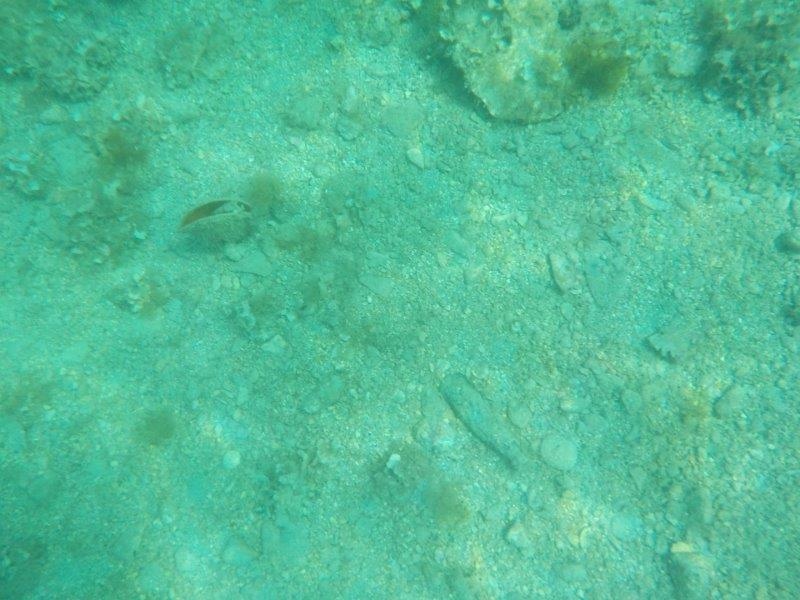bottle: (433, 368, 528, 471)
